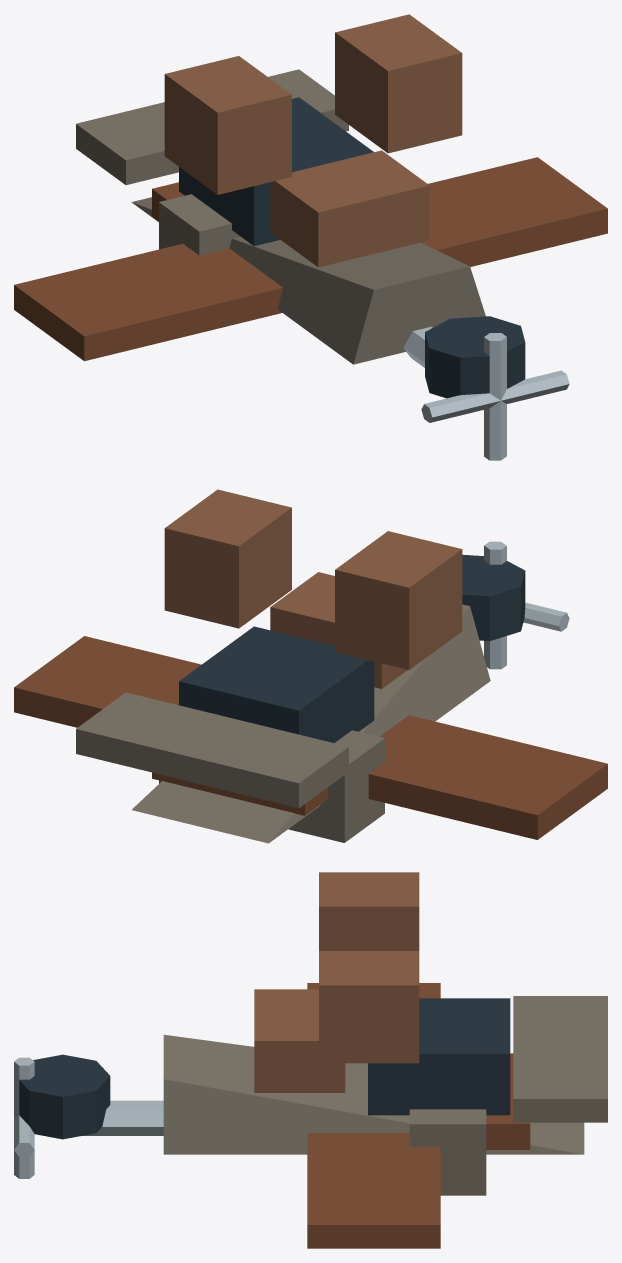
The model's file is air.obj.
3 views of the same model, one above another, from view 1: azimuth 30°, elevation 25°; view 2: azimuth 150°, elevation 25°; view 3: azimuth 270°, elevation 25° (orthographic). The views are drawn at different scales.
Parts seen in each view (by area): view 1: air; view 2: air; view 3: air.
Part boxes in pixels (x1,y1,x2,y2): air: (14,14,607,460); air: (14,489,607,843); air: (14,872,607,1248).
Bounding box in the file's own units: 2.4 × 1.14 × 2.49.
